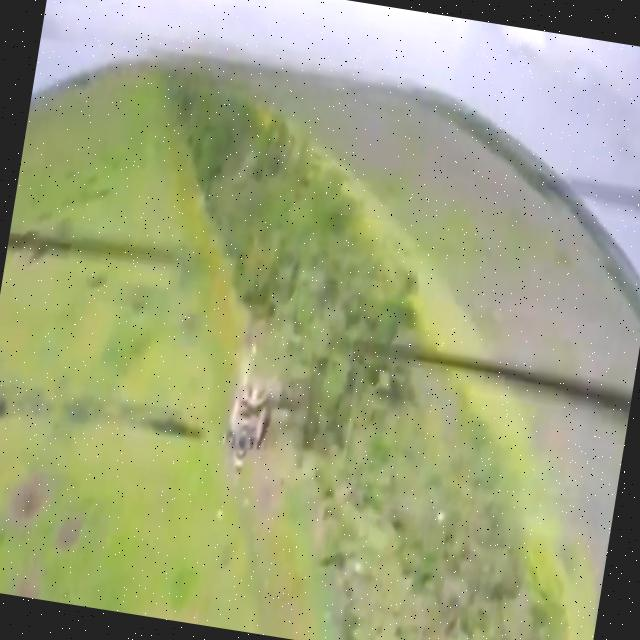MBT: (227, 370, 274, 454)
